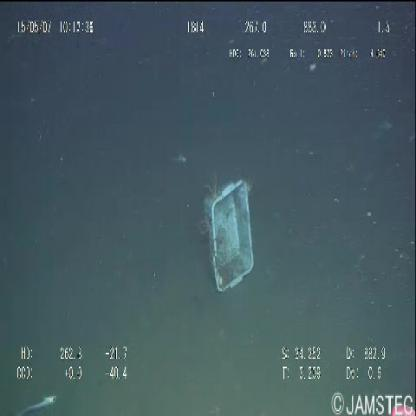Rác: (198, 173, 256, 295)
